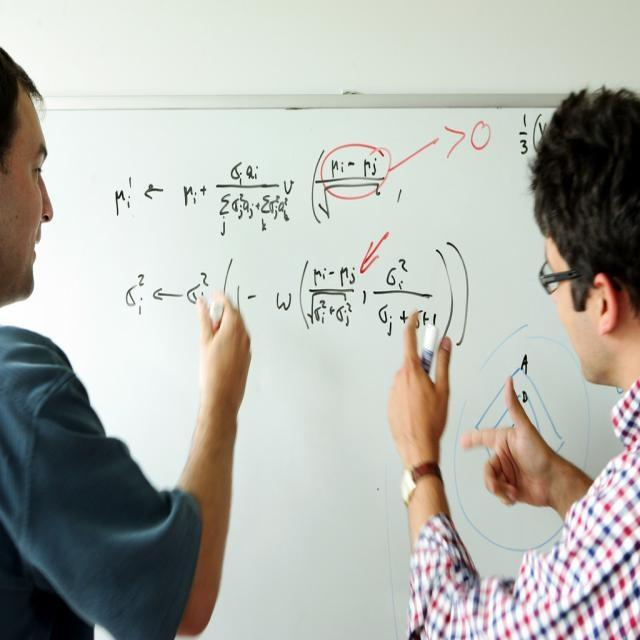Whiteboard: (22, 102, 630, 639)
